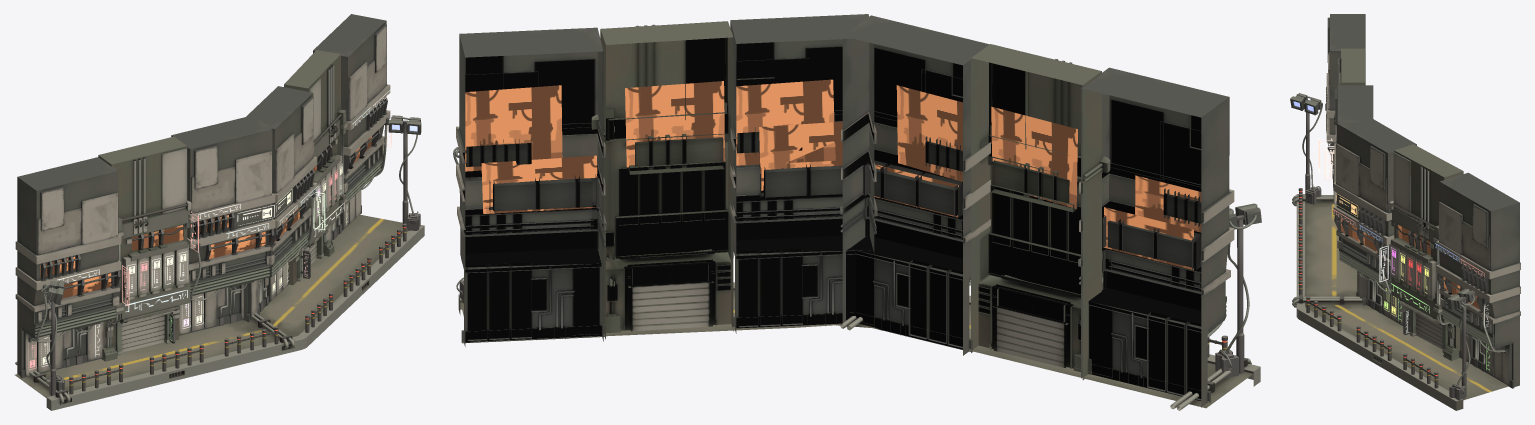
File: SUP_neon_city.glb
The picture shows the model from 3 angles, left to right: view 1: azimuth 30°, elevation 25°; view 2: azimuth 150°, elevation 25°; view 3: azimuth 270°, elevation 25°; orthographic projection. The views are drawn at different scales.
Parts seen in each view (by area): view 1: SUP_neon_city; view 2: SUP_neon_city; view 3: SUP_neon_city.
Boxes of the visible parts, x1,y1,x2,y2 form: SUP_neon_city: (14, 14, 424, 410); SUP_neon_city: (453, 14, 1261, 410); SUP_neon_city: (1290, 14, 1520, 410).
Size of the model in its own units: 15.08 by 6.49 by 7.04.
17 materials, 17 textured.
